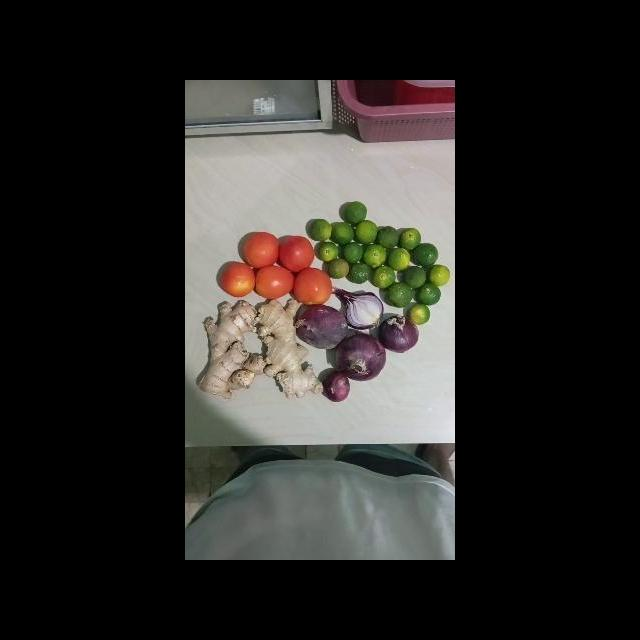ginger: (190, 291, 272, 405), (248, 293, 326, 401)
onion: (291, 300, 353, 354), (330, 282, 394, 334), (330, 333, 392, 384), (373, 309, 427, 359), (318, 364, 358, 409)
